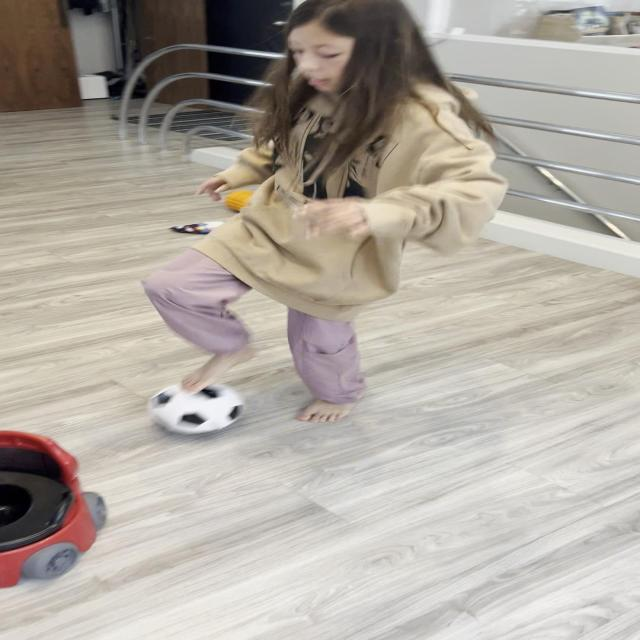Soccer Ball: (147, 382, 246, 435)
